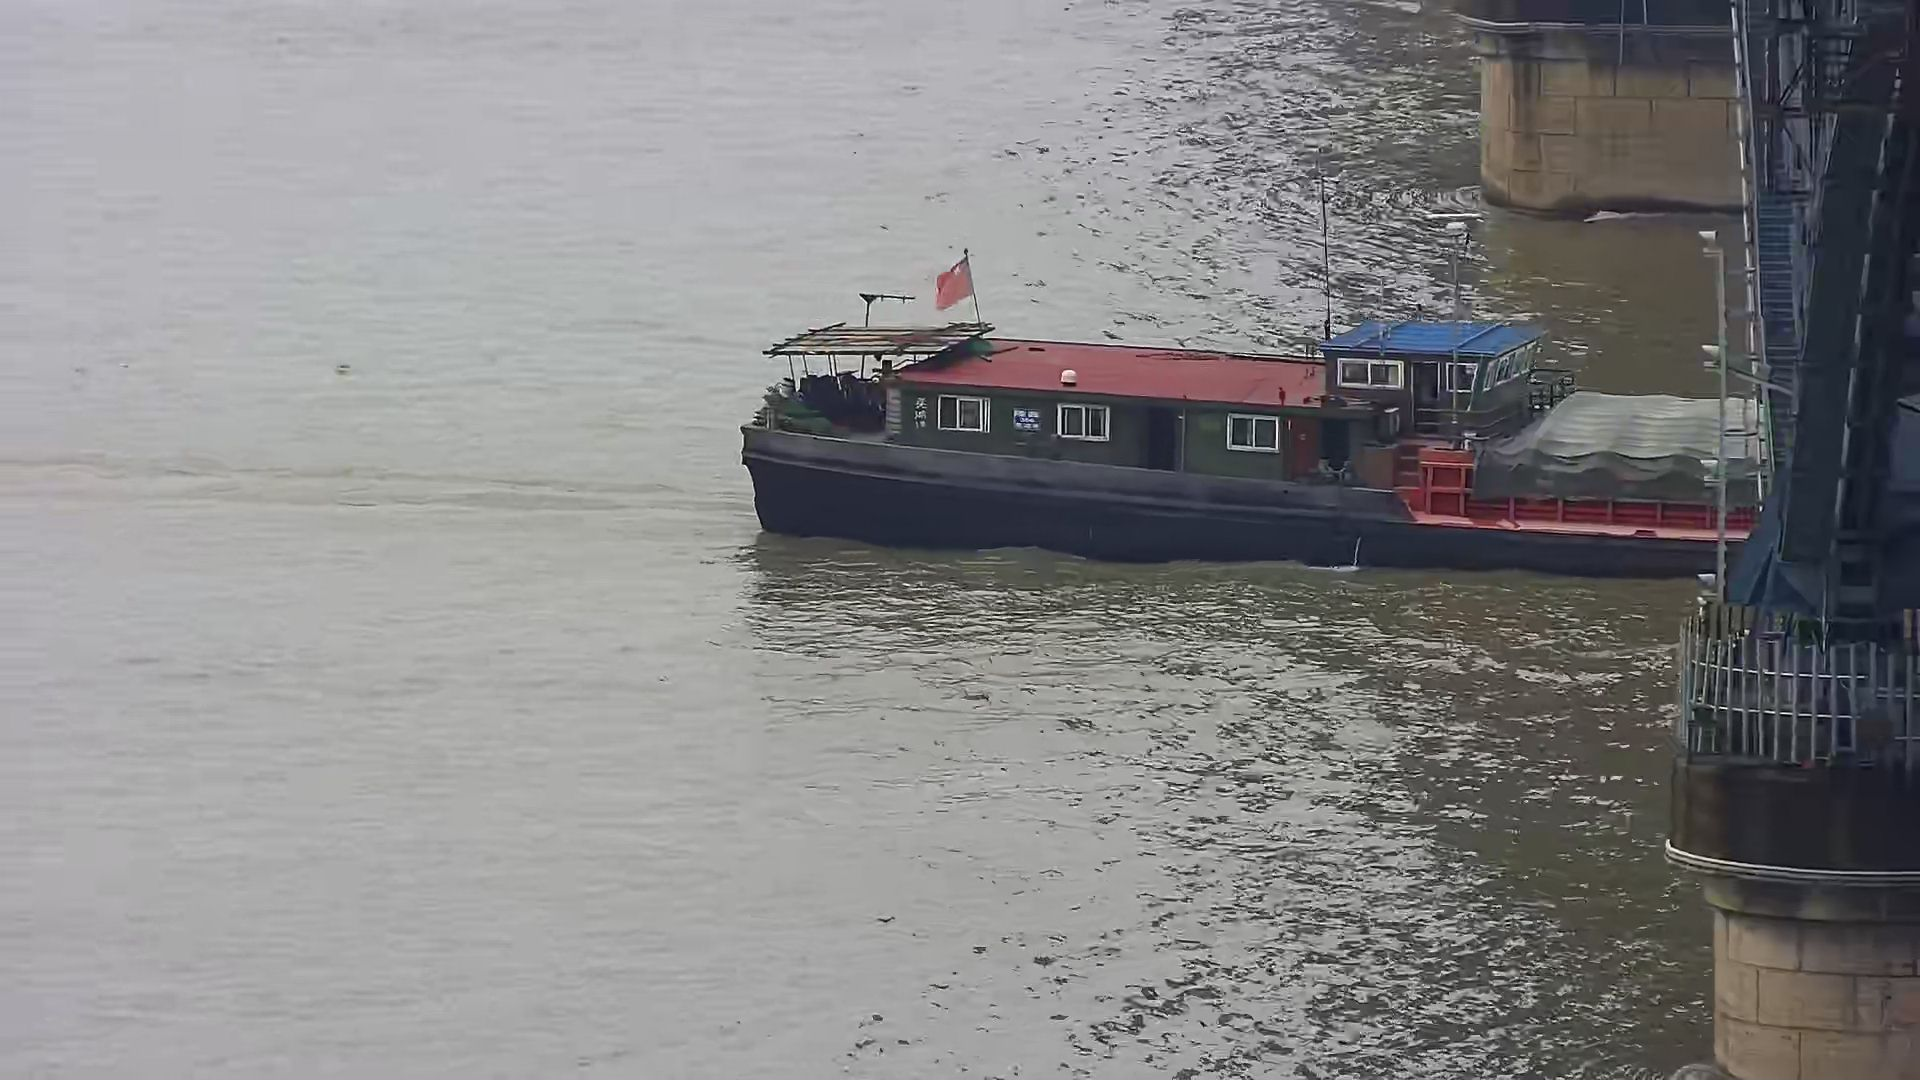bridge: (1437, 1, 1920, 1080)
ship: (731, 277, 1782, 591)
